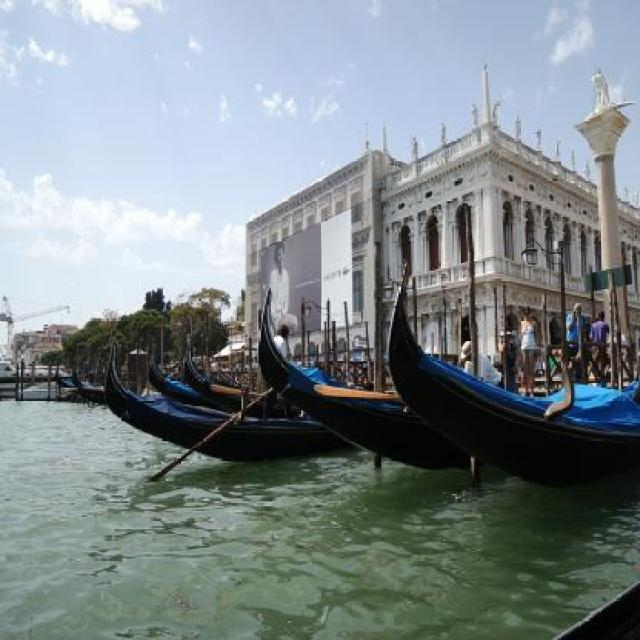ship: (388, 258, 638, 482), (256, 282, 495, 468), (102, 338, 341, 462)
